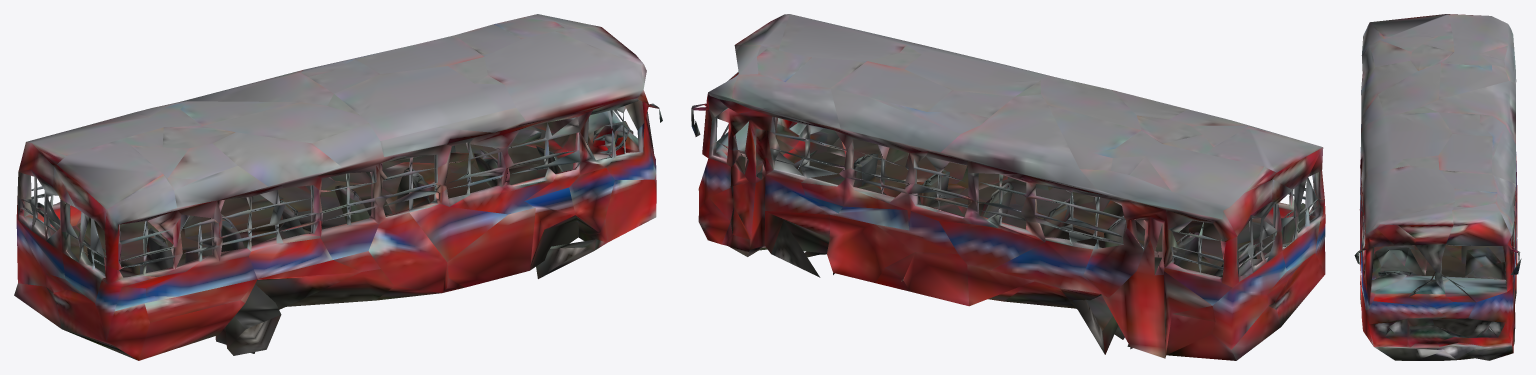
Rendered from sltb_2.glb.
3 renders of one model, left to right at view 1: azimuth 30°, elevation 25°; view 2: azimuth 150°, elevation 25°; view 3: azimuth 270°, elevation 25°, orthographic. The views are drawn at different scales.
Parts seen in each view (by area): view 1: tripo_node_790443ac-0242-469d-84a1-d87729b85045; view 2: tripo_node_790443ac-0242-469d-84a1-d87729b85045; view 3: tripo_node_790443ac-0242-469d-84a1-d87729b85045.
Boxes of the visible parts, x1=… form: tripo_node_790443ac-0242-469d-84a1-d87729b85045: x1=14, y1=14, x2=662, y2=360; tripo_node_790443ac-0242-469d-84a1-d87729b85045: x1=691, y1=14, x2=1325, y2=360; tripo_node_790443ac-0242-469d-84a1-d87729b85045: x1=1354, y1=14, x2=1521, y2=360.
Bounding box in the file's own units: 0.9949 × 0.3504 × 0.3272.
Materials: 1 (1 with a texture image).
